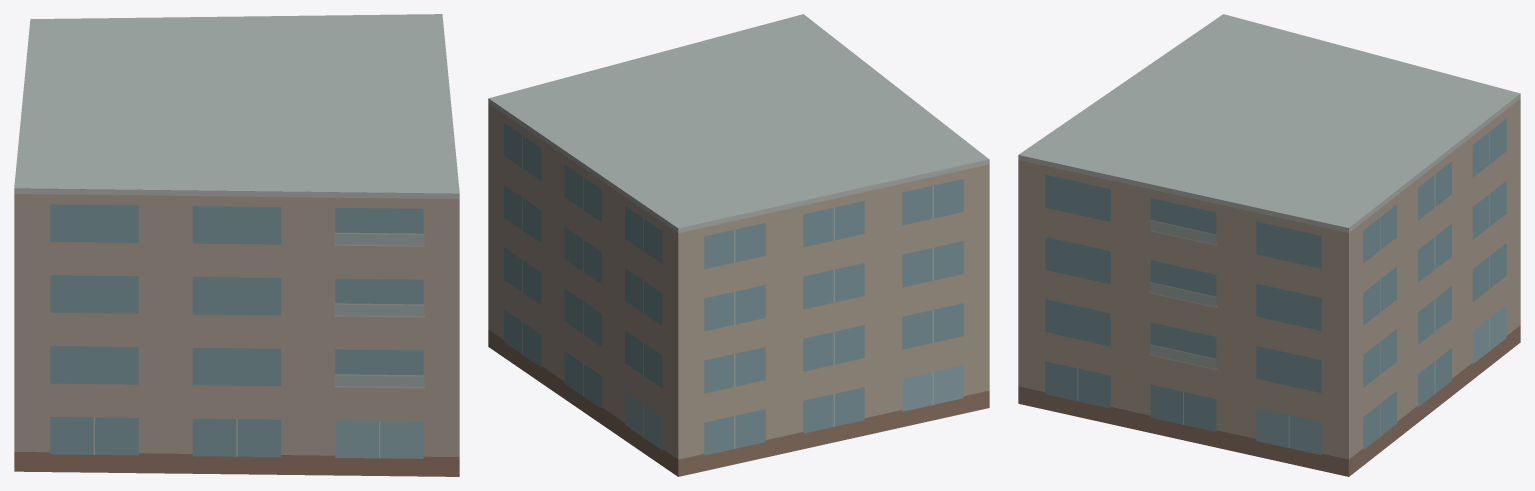
The model's file is residential-8a545acf-76ae-4425-9156-3b9935ceeda1.glb.
3 renders of one model, left to right at view 1: azimuth 30°, elevation 25°; view 2: azimuth 150°, elevation 25°; view 3: azimuth 270°, elevation 25°, orthographic. The views are drawn at different scales.
Visible parts, largest first — view 1: residential-8a545acf-76ae-4425-9156-3b9935ceeda1.tmp; view 2: residential-8a545acf-76ae-4425-9156-3b9935ceeda1.tmp; view 3: residential-8a545acf-76ae-4425-9156-3b9935ceeda1.tmp.
Boxes of the visible parts, <box> form: residential-8a545acf-76ae-4425-9156-3b9935ceeda1.tmp: <box>14,14,459,476</box>; residential-8a545acf-76ae-4425-9156-3b9935ceeda1.tmp: <box>488,14,989,476</box>; residential-8a545acf-76ae-4425-9156-3b9935ceeda1.tmp: <box>1018,14,1520,476</box>.
Size of the model in its own units: 22.53 by 12.2 by 22.34.
